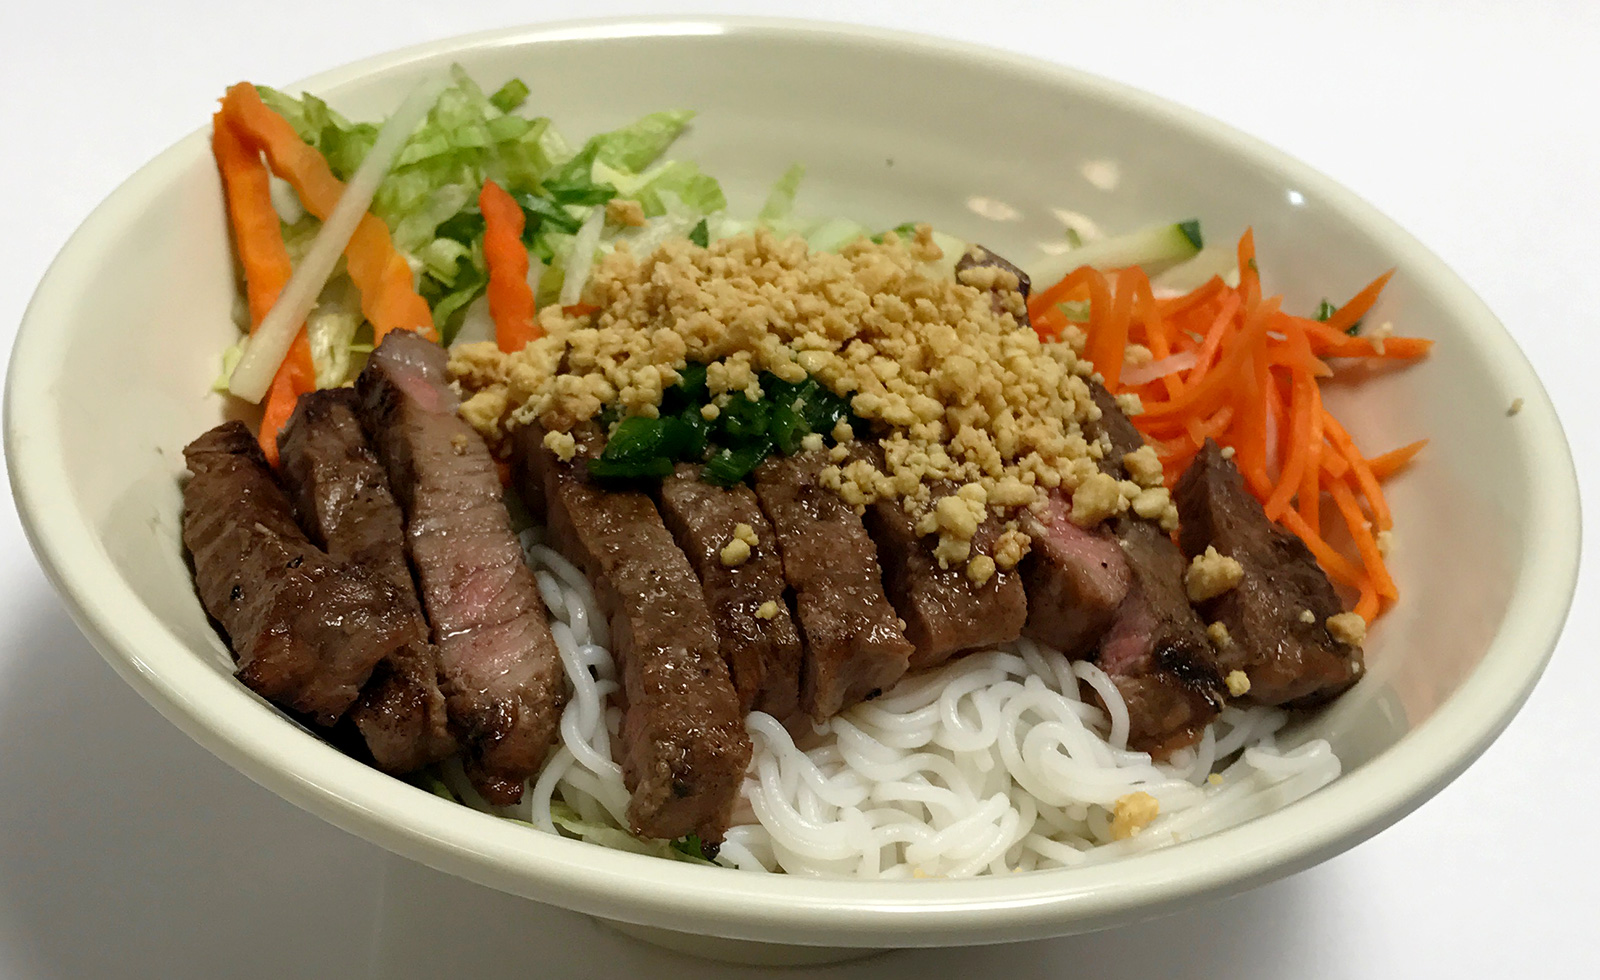beef: (560, 511, 741, 833), (279, 385, 439, 737), (1185, 456, 1360, 717), (773, 496, 875, 718)
vegetable: (219, 95, 598, 266)
